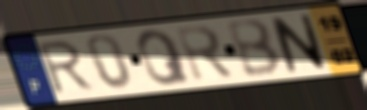0: (85, 33, 135, 93)
B: (223, 17, 285, 79)
N: (268, 12, 330, 75)
Q: (134, 27, 195, 88)
R: (173, 23, 239, 85), (36, 38, 99, 98)
